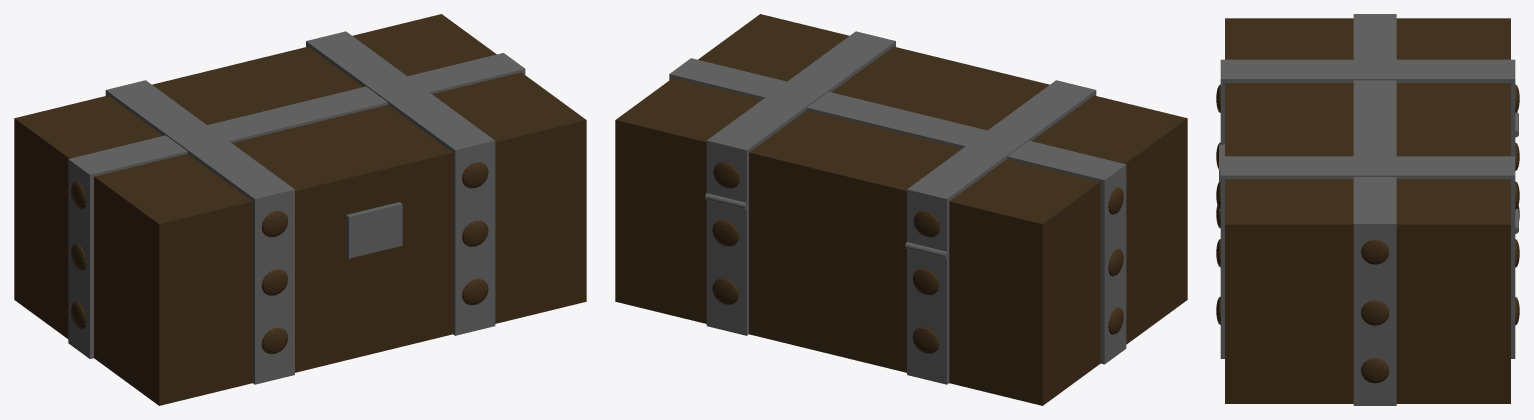
File: Chest.fbx
The picture shows the model from 3 angles, left to right: view 1: azimuth 30°, elevation 25°; view 2: azimuth 150°, elevation 25°; view 3: azimuth 270°, elevation 25°; orthographic projection.
Parts seen in each view (by area): view 1: Plane.001, Plane; view 2: Plane.001, Plane; view 3: Plane.001, Plane.
Part boxes in pixels (x1,y1,x2,y2): Plane.001: [14, 14, 586, 275]; Plane: [14, 170, 586, 405]; Plane.001: [615, 14, 1187, 275]; Plane: [615, 170, 1187, 405]; Plane.001: [1216, 14, 1519, 277]; Plane: [1216, 134, 1519, 405].
Bounding box in the file's own units: 50 × 20 × 30.
